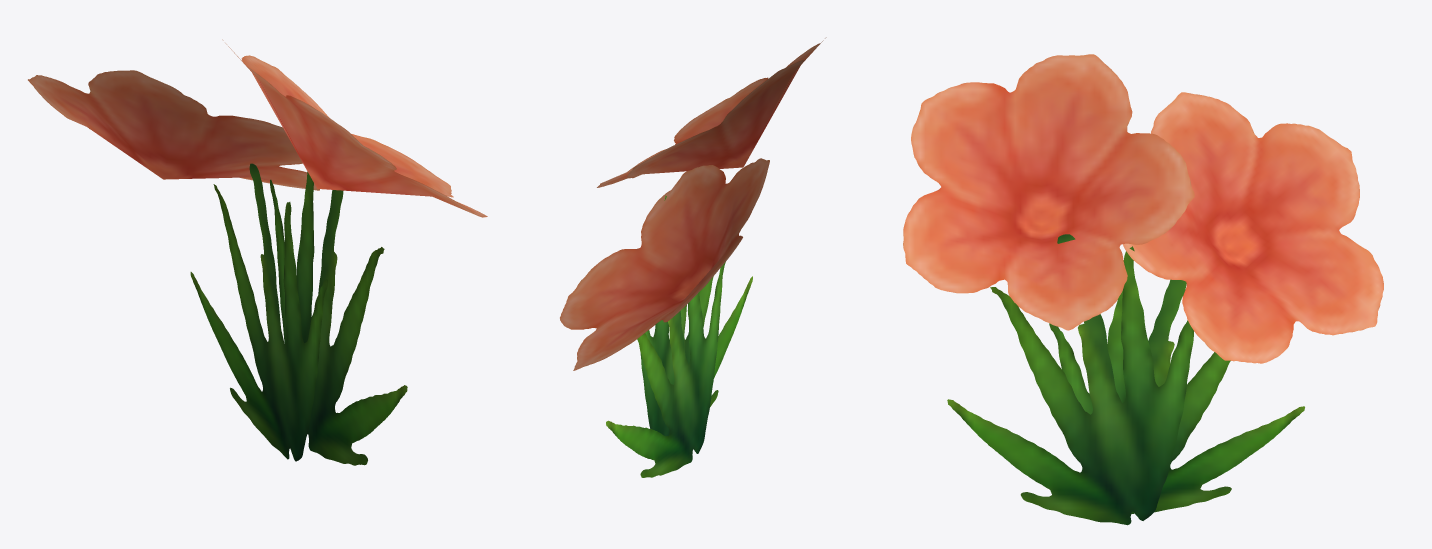
The model's file is flower_01.FBX.
The picture shows the model from 3 angles, left to right: view 1: azimuth 30°, elevation 25°; view 2: azimuth 150°, elevation 25°; view 3: azimuth 270°, elevation 25°; orthographic projection. The views are drawn at different scales.
Visible parts, largest first — view 1: Plane016; view 2: Plane016; view 3: Plane016.
Boxes of the visible parts, box(x1,y1,x2,y2) form: Plane016: box(28, 39, 487, 465); Plane016: box(560, 37, 826, 477); Plane016: box(903, 54, 1383, 525).
Size of the model in its own units: 0.5087 by 0.7065 by 0.7567.
